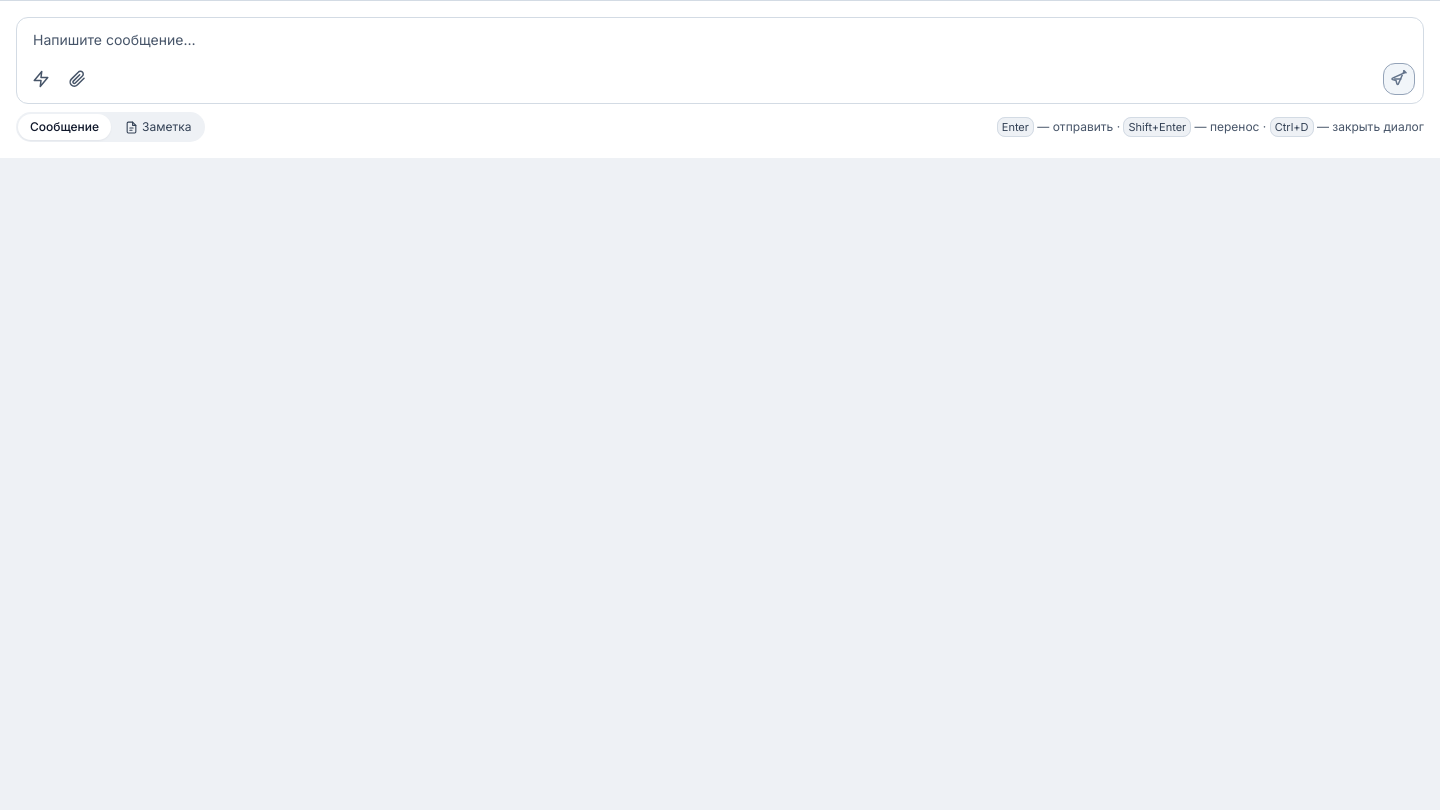
Test case: TemplatePickerPopover — быстрые ответы (11 §3.1, 10 §5.1) › команда, ВСТАВЛЕННАЯ из буфера, тоже поднимает список
The image size is (1440, 810).
Click the text box named "Текст сообщения" at (720, 40), box [25,26,1415,54]
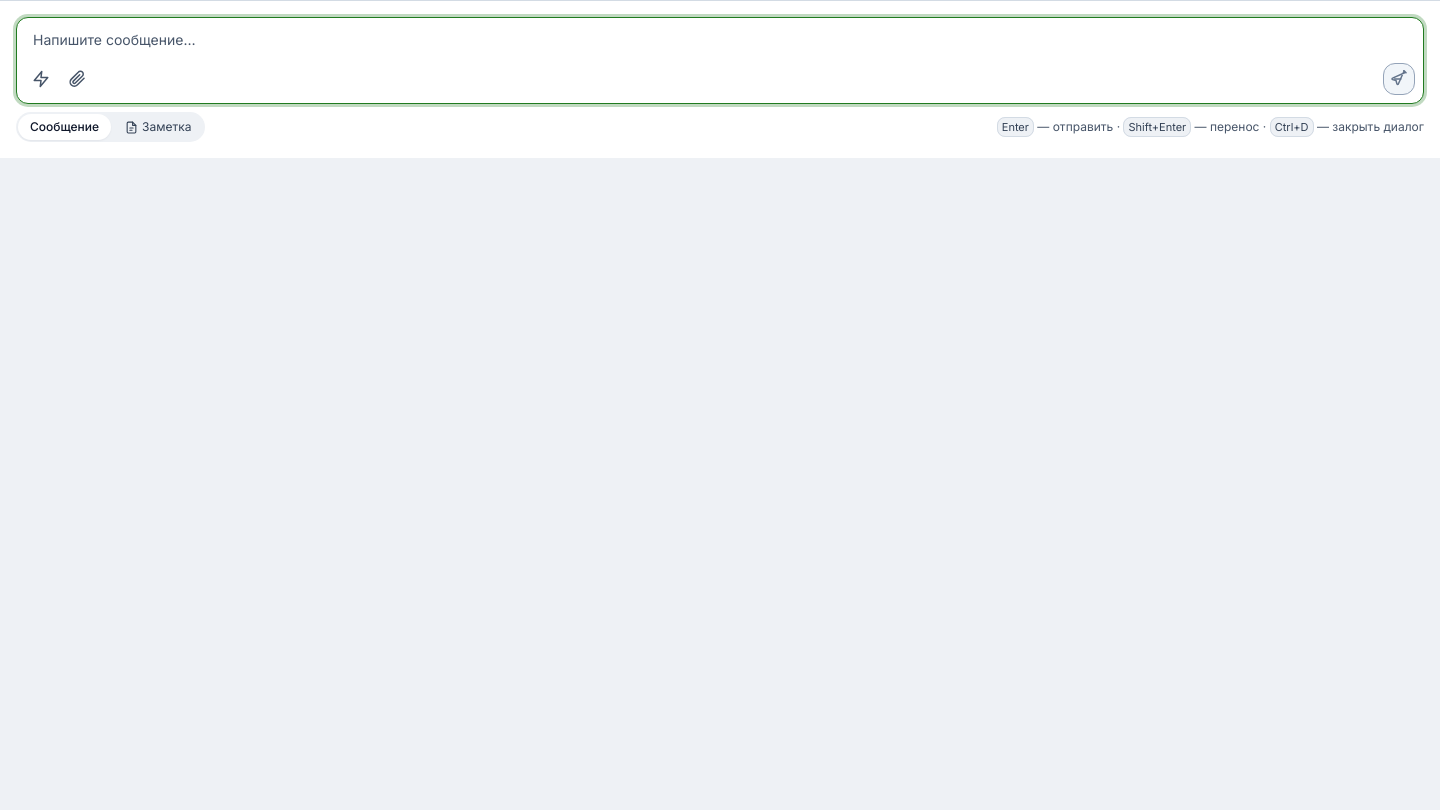
Type keys "/дост"
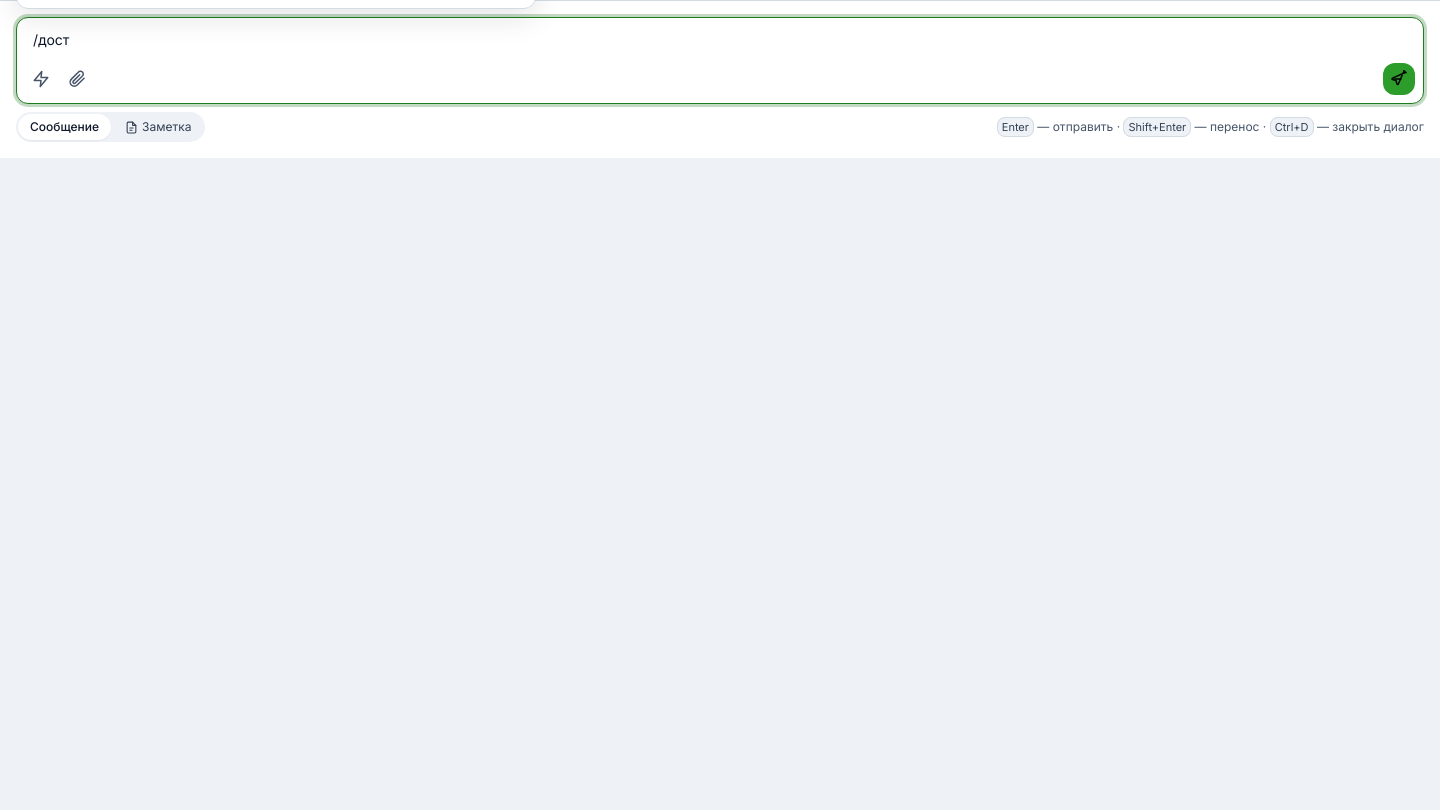
Expected: the text box named "Текст сообщения" holds "/дост", [25,26,1415,54]
